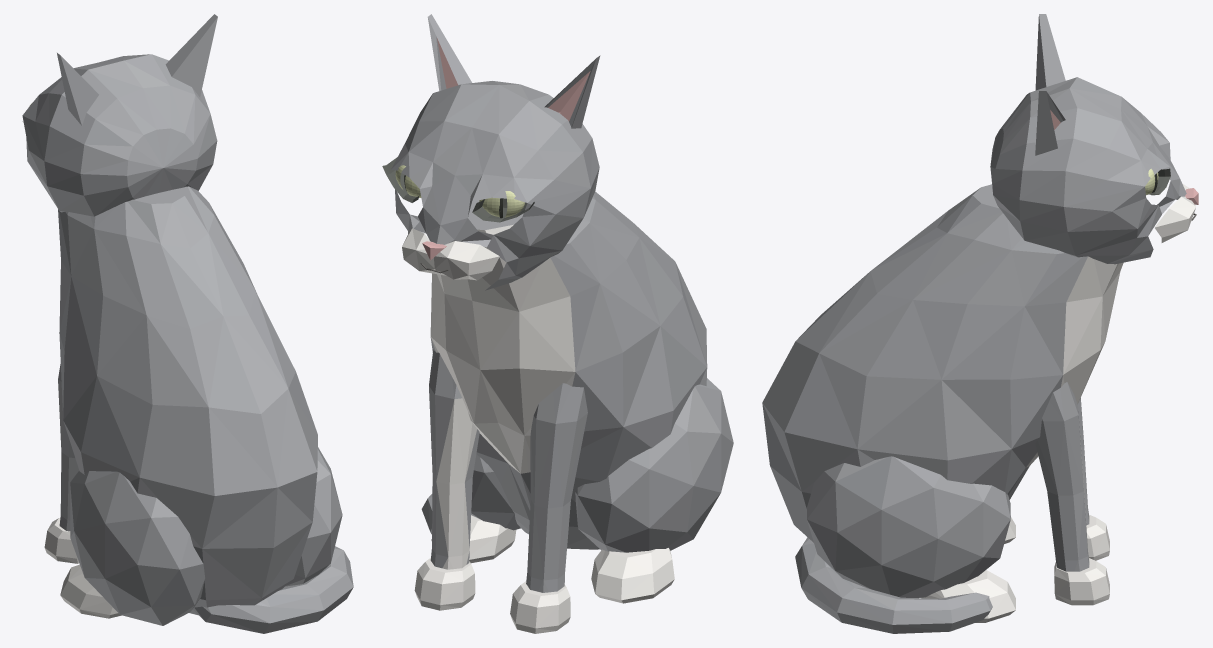
The model's file is cat_v9.glb.
3 views of the same model, side by side, from view 1: azimuth 30°, elevation 25°; view 2: azimuth 150°, elevation 25°; view 3: azimuth 270°, elevation 25° (orthographic). The views are drawn at different scales.
Parts seen in each view (by area): view 1: Rounded_Torso_Graphite, Sculpted_Head_Graphite, Haunch_Right_Graphite, Haunch_Right_GraphiteMid, Rounded_Torso_GraphiteLight, Sculpted_Head_GraphiteMid, Haunch_Right_GraphiteLight, Curled_tail_Graphite, Haunch_Left_GraphiteMid, Curled_tail_GraphiteMid, Sculpted_Head_GraphiteLight, Hind_paw_Right_Ivory (+9 smaller); view 2: Rounded_Torso_Graphite, Sculpted_Head_Graphite, Rounded_Torso_Ivory, Haunch_Right_Graphite, Foreleg_Right_Graphite, Haunch_Right_GraphiteMid, Hind_paw_Right_Ivory, Sculpted_Head_GraphiteMid, Sculpted_Head_Ivory, Foreleg_Left_Graphite_Inner_White, Front_paw_Left_Ivory, Front_paw_Right_Ivory (+16 smaller); view 3: Rounded_Torso_Graphite, Sculpted_Head_Graphite, Haunch_Left_Graphite, Haunch_Left_GraphiteMid, Rounded_Torso_Ivory, Curled_tail_Graphite, Foreleg_Left_Graphite, Rounded_Torso_GraphiteLight, Curled_tail_GraphiteMid, Front_paw_Left_Ivory, Sculpted_Head_GraphiteMid, Hind_paw_Left_Ivory (+9 smaller).
Part boxes in pixels (left/top/right/bottom): Rounded_Torso_Graphite: left=58, top=186, right=317, bottom=615; Sculpted_Head_Graphite: left=22, top=54, right=217, bottom=216; Haunch_Right_Graphite: left=70, top=471, right=204, bottom=625; Haunch_Right_GraphiteMid: left=70, top=486, right=204, bottom=625; Rounded_Torso_GraphiteLight: left=137, top=203, right=214, bottom=548; Sculpted_Head_GraphiteMid: left=28, top=85, right=209, bottom=210; Haunch_Right_GraphiteLight: left=74, top=471, right=193, bottom=625; Curled_tail_Graphite: left=193, top=546, right=353, bottom=633; Haunch_Left_GraphiteMid: left=285, top=449, right=342, bottom=586; Curled_tail_GraphiteMid: left=256, top=562, right=353, bottom=623; Sculpted_Head_GraphiteLight: left=35, top=60, right=169, bottom=160; Hind_paw_Right_Ivory: left=60, top=564, right=121, bottom=618; Rounded_Torso_Graphite: left=430, top=191, right=707, bottom=549; Sculpted_Head_Graphite: left=391, top=81, right=599, bottom=290; Rounded_Torso_Ivory: left=430, top=224, right=575, bottom=473; Haunch_Right_Graphite: left=575, top=378, right=721, bottom=552; Foreleg_Right_Graphite: left=527, top=383, right=587, bottom=592; Haunch_Right_GraphiteMid: left=578, top=392, right=733, bottom=550; Hind_paw_Right_Ivory: left=591, top=548, right=674, bottom=603; Sculpted_Head_GraphiteMid: left=396, top=121, right=592, bottom=250; Sculpted_Head_Ivory: left=402, top=228, right=499, bottom=280; Foreleg_Left_Graphite_Inner_White: left=436, top=398, right=476, bottom=569; Front_paw_Left_Ivory: left=414, top=558, right=475, bottom=610; Front_paw_Right_Ivory: left=510, top=581, right=570, bottom=633; Rounded_Torso_Graphite: left=762, top=184, right=1087, bottom=542; Sculpted_Head_Graphite: left=990, top=77, right=1186, bottom=264; Haunch_Left_Graphite: left=807, top=456, right=1010, bottom=597; Haunch_Left_GraphiteMid: left=806, top=457, right=1010, bottom=589; Rounded_Torso_Ivory: left=1026, top=256, right=1123, bottom=467; Curled_tail_Graphite: left=801, top=539, right=992, bottom=633; Foreleg_Left_Graphite: left=1042, top=382, right=1089, bottom=571; Rounded_Torso_GraphiteLight: left=937, top=188, right=1056, bottom=306; Curled_tail_GraphiteMid: left=795, top=537, right=989, bottom=624; Front_paw_Left_Ivory: left=1054, top=558, right=1109, bottom=605; Sculpted_Head_GraphiteMid: left=991, top=94, right=1180, bottom=255; Hind_paw_Left_Ivory: left=921, top=570, right=1015, bottom=622.
Size of the model in its own units: 0.0762 by 0.15 by 0.1139.
